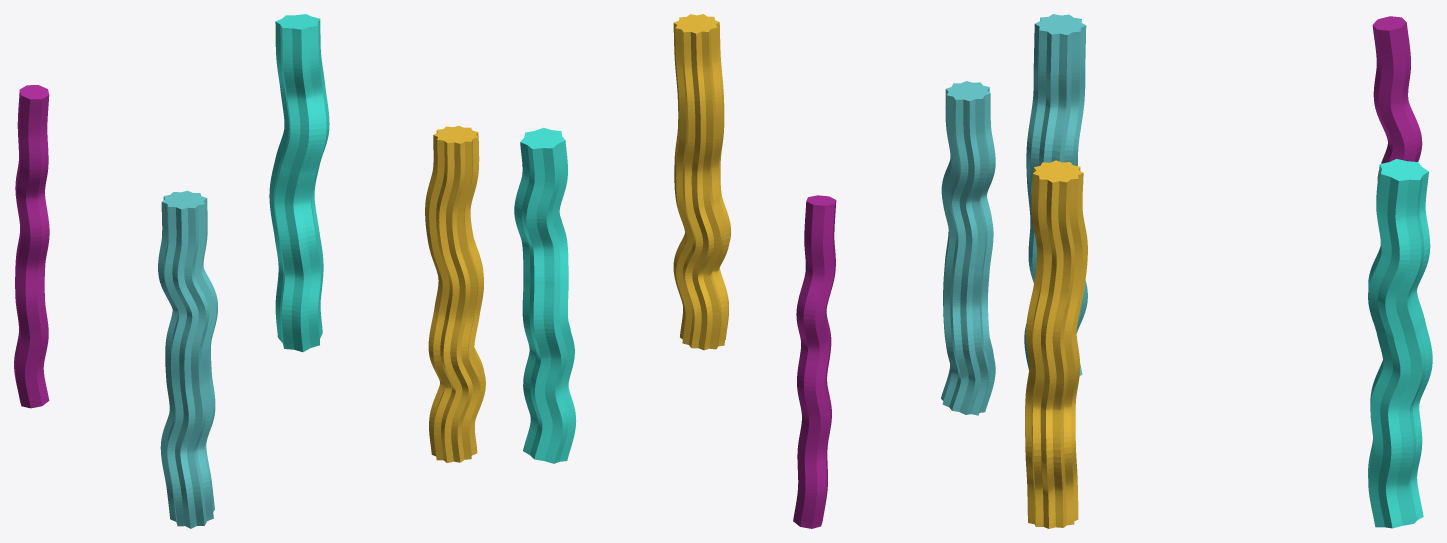
Rendered from Standard Texturized_Opened Spline_2023-07-23-20-47-45.gltf.
3 renders of one model, left to right at view 1: azimuth 30°, elevation 25°; view 2: azimuth 150°, elevation 25°; view 3: azimuth 270°, elevation 25°, orthographic. The views are drawn at different scales.
Bounding box in the file's own units: 237 × 230 × 238.
